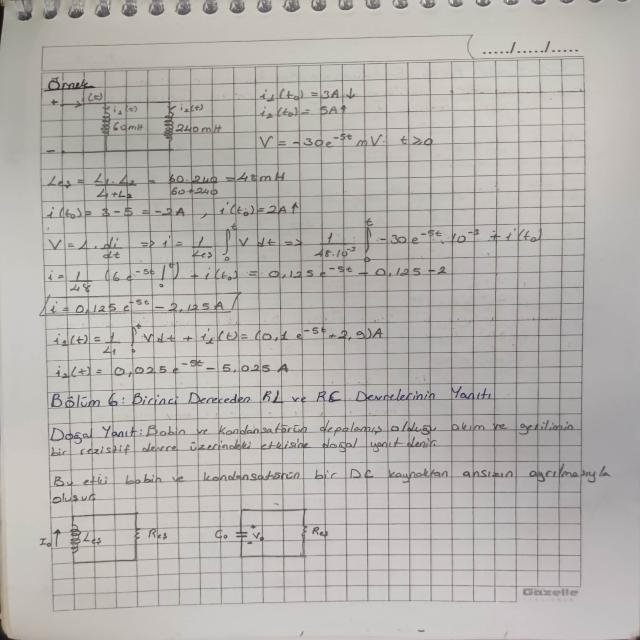image: (40, 88, 228, 155), (209, 502, 344, 566), (39, 509, 178, 566)
math: (46, 215, 556, 266), (45, 264, 456, 294), (52, 322, 392, 356), (44, 166, 291, 201), (44, 201, 307, 223), (53, 359, 295, 380), (248, 82, 360, 123), (254, 129, 436, 152), (44, 298, 239, 317)
text: (48, 464, 612, 506), (43, 419, 580, 458), (49, 386, 498, 408)
